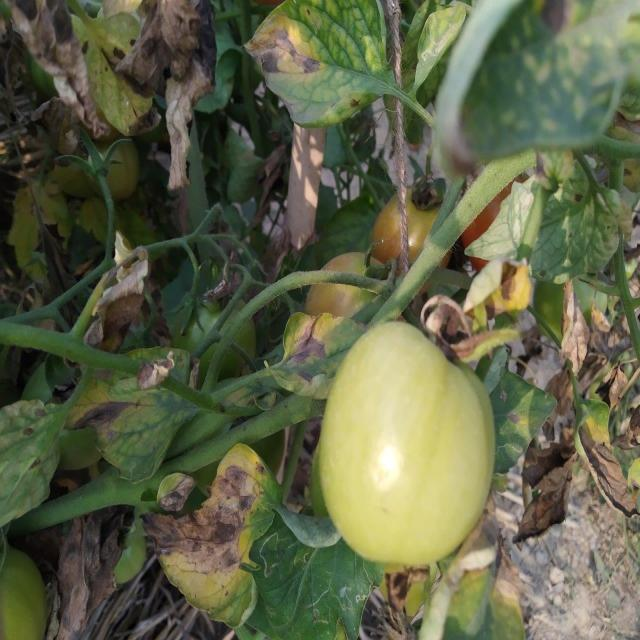Unripe: (321, 318, 496, 570)
